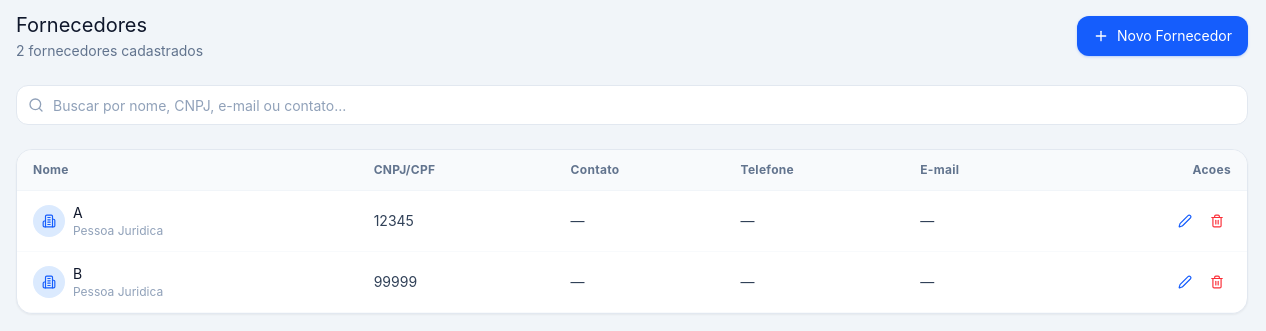
Test: Fornecedores › filters by cnpj
This screenshot has width=1266, height=331.
Type "12345" into the search field with placeholder "Buscar por nome, CNPJ, e-mail ou contato..." at [632, 105], box [16, 85, 1248, 125]
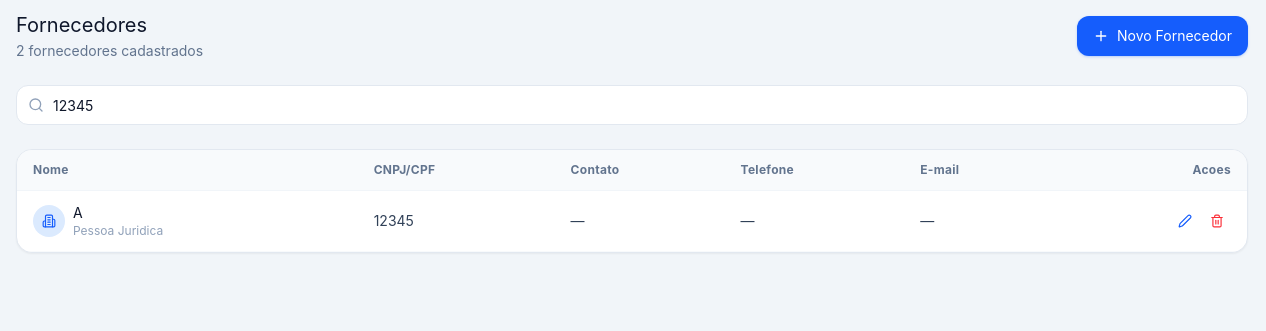
Expected: the text "A" is shown, [73, 204, 83, 221]
Result: the text "B" is gone
